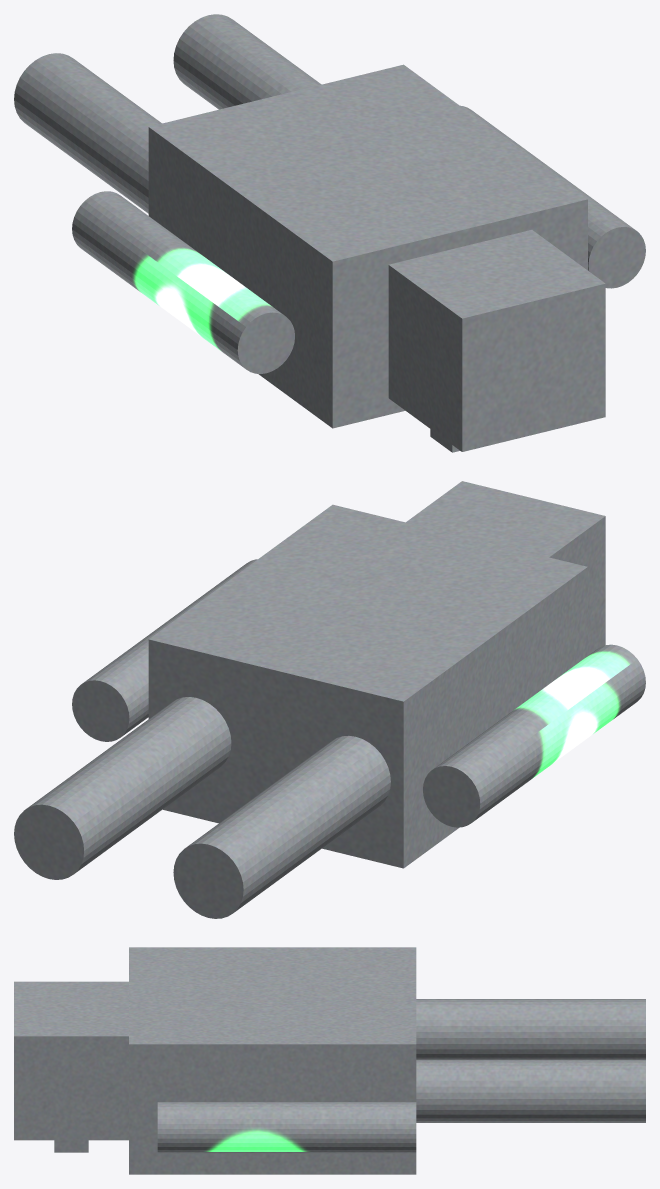
The model's file is sample_robot.glb.
3 views of the same model, one above another, from view 1: azimuth 30°, elevation 25°; view 2: azimuth 150°, elevation 25°; view 3: azimuth 270°, elevation 25° (orthographic). The views are drawn at different scales.
Visible parts, largest first — view 1: geometry_0; view 2: geometry_0; view 3: geometry_0.
Part boxes in pixels (x1=…): geometry_0: x1=14, y1=14, x2=645, y2=452; geometry_0: x1=14, y1=481, x2=645, y2=918; geometry_0: x1=14, y1=947, x2=645, y2=1174.
Size of the model in its own units: 1.28 by 0.52 by 2.2.
Materials: 1 (1 with a texture image).
